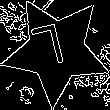L_S: (36, 22, 77, 79)
